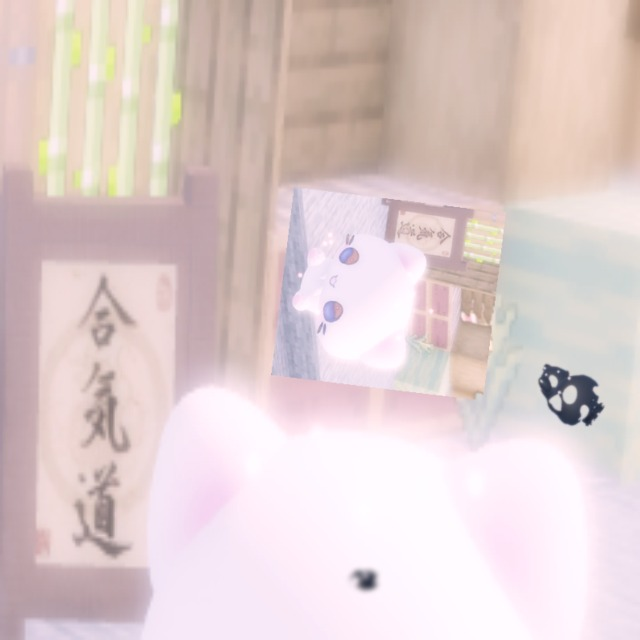urso_branco: (271, 187, 506, 401), (404, 282, 493, 362)
urso_preto: (518, 344, 617, 439), (343, 563, 385, 598)
